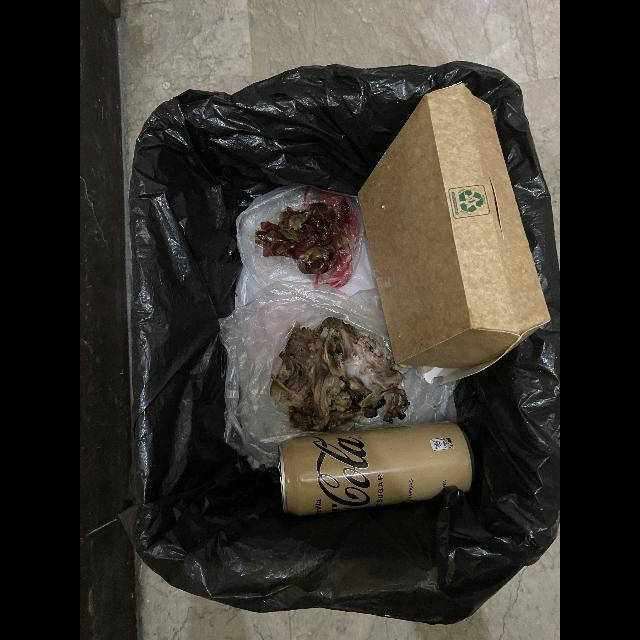aluminum: (278, 421, 475, 519)
cardboard: (358, 83, 551, 386)
left_over_food: (270, 317, 410, 432)
plastic_bag: (219, 281, 460, 465), (236, 186, 361, 294)
